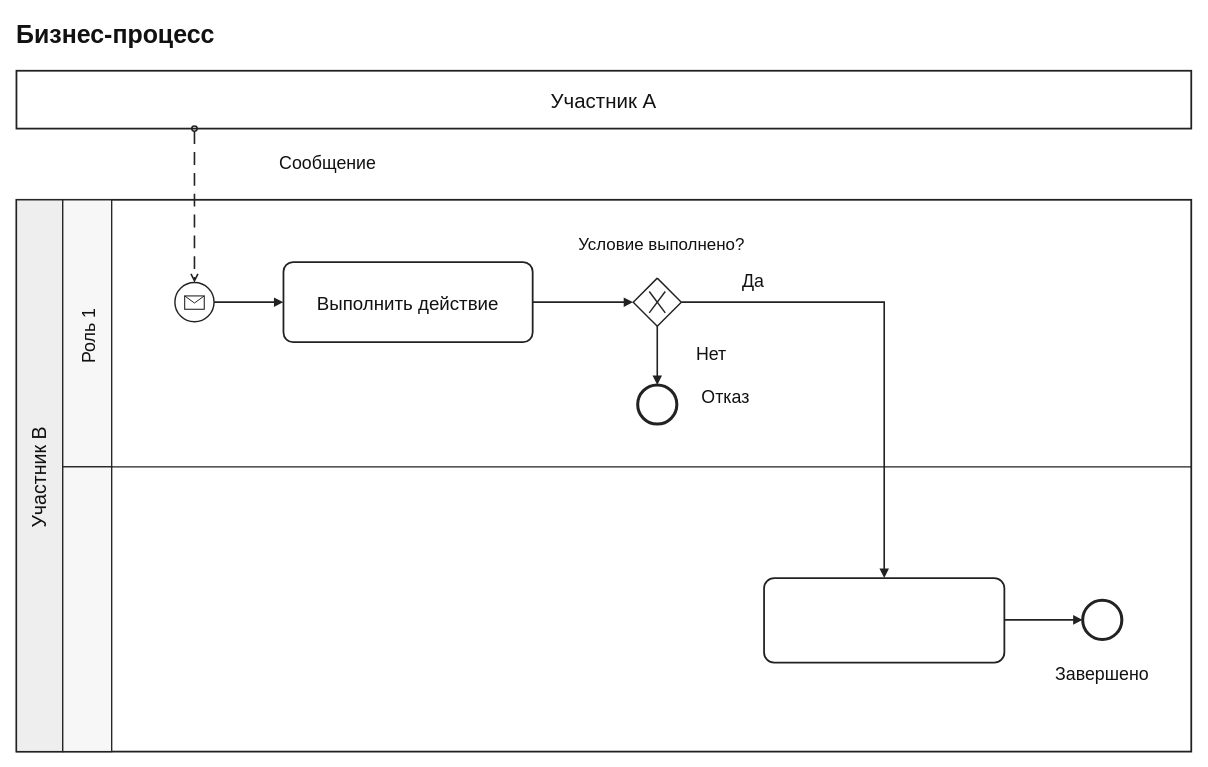
This 1208x767 diagram has some shape labels left out. Here are the shapes that lost their labels. From the top down, the centre of each, then its label:
At point 87,609: "Роль 2".
At point 884,620: "Завершить обработку".
